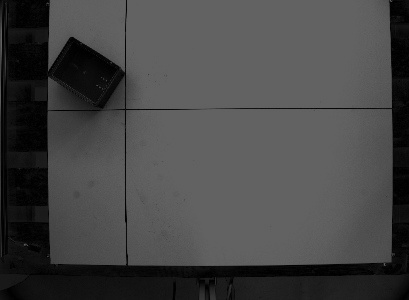klts: (45, 33, 127, 111)
